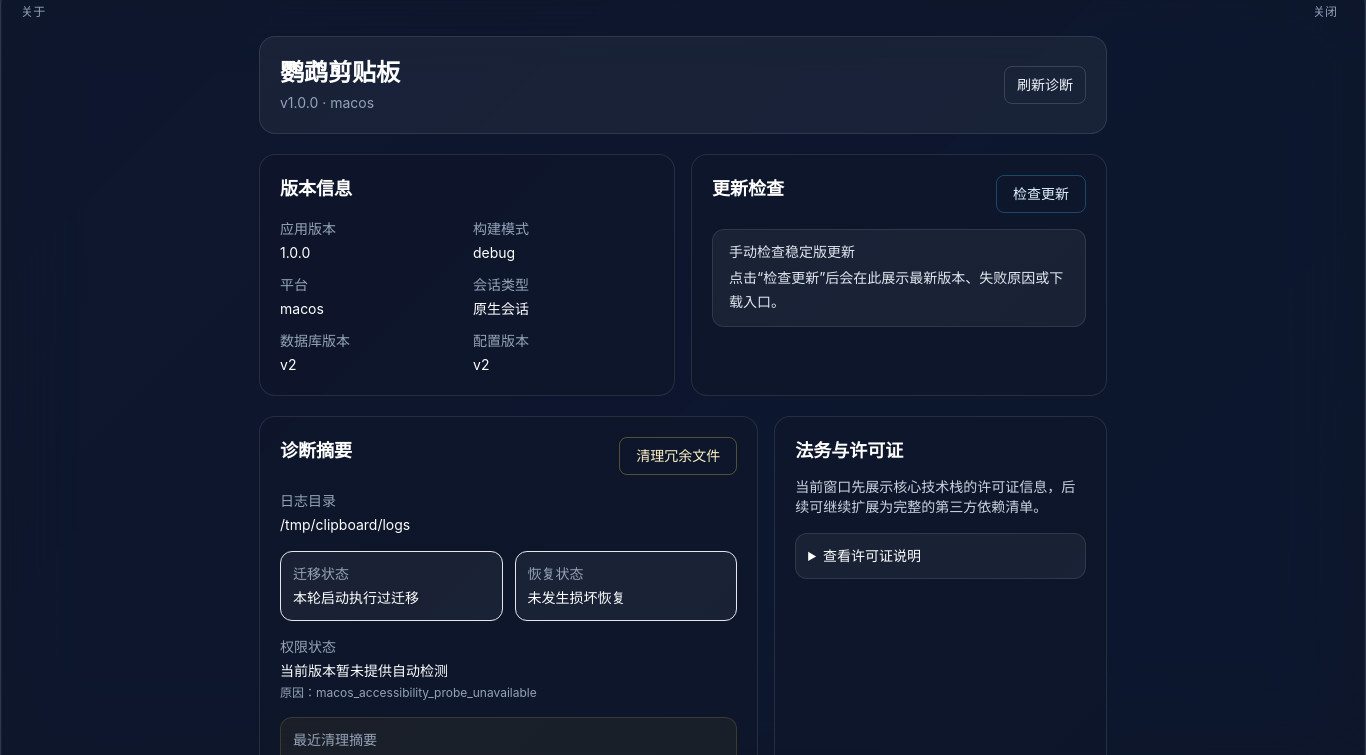
Test: AboutWindow › 孤立图片清理失败时展示错误反馈
Expected: the element with test id "about-release-card" shows "1.0.0", [280,244,310,261]
Click the button with test id "about-run-orphan-cleanup-button": [678, 456] box [619,437,737,475]
(page scrolled)
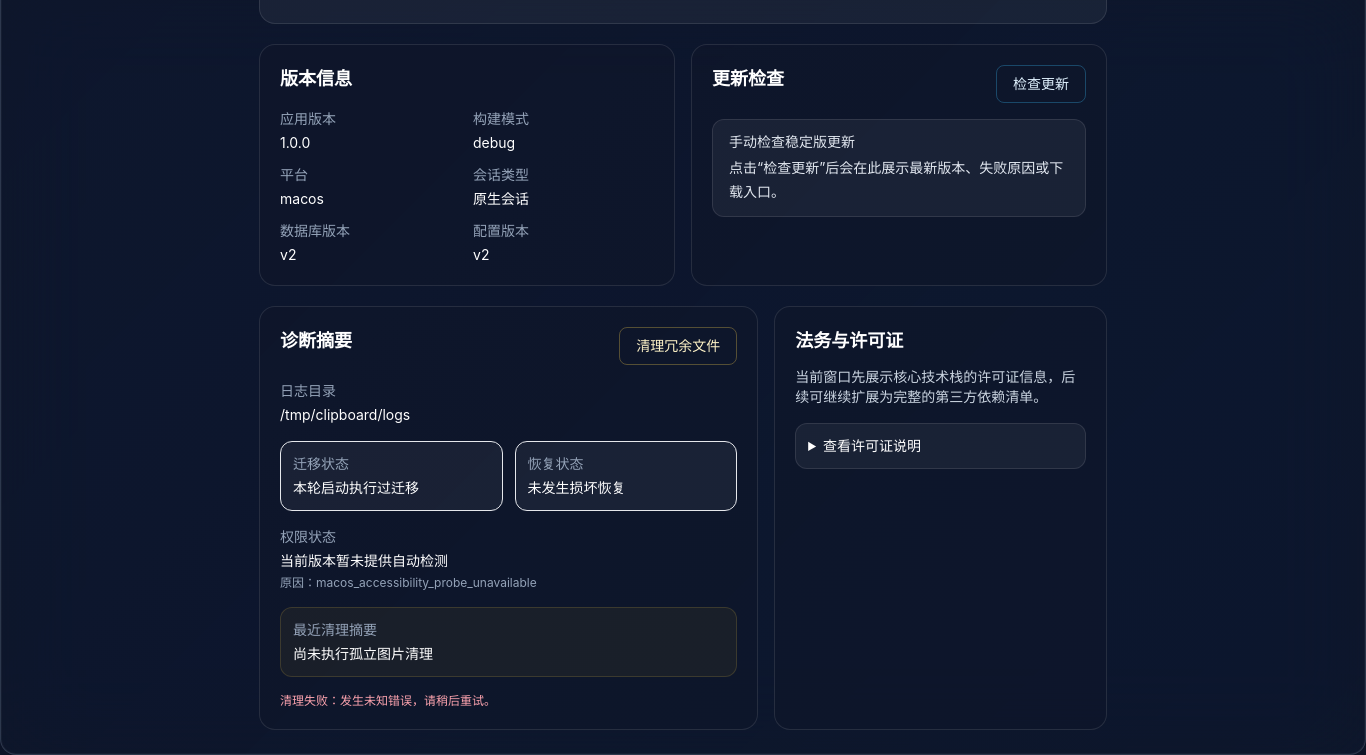
Now the text with test id "about-orphan-cleanup-feedback" reads "清理失败：发生未知错误，请稍后重试。", box [280,693,496,708]
